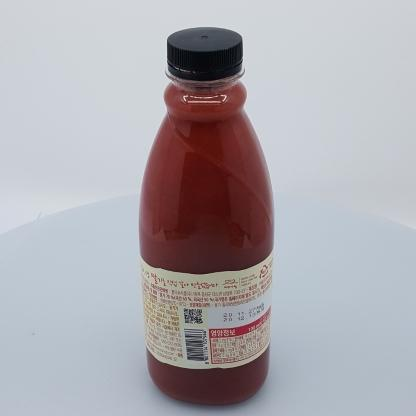--------------700ML: (139, 27, 275, 405)
